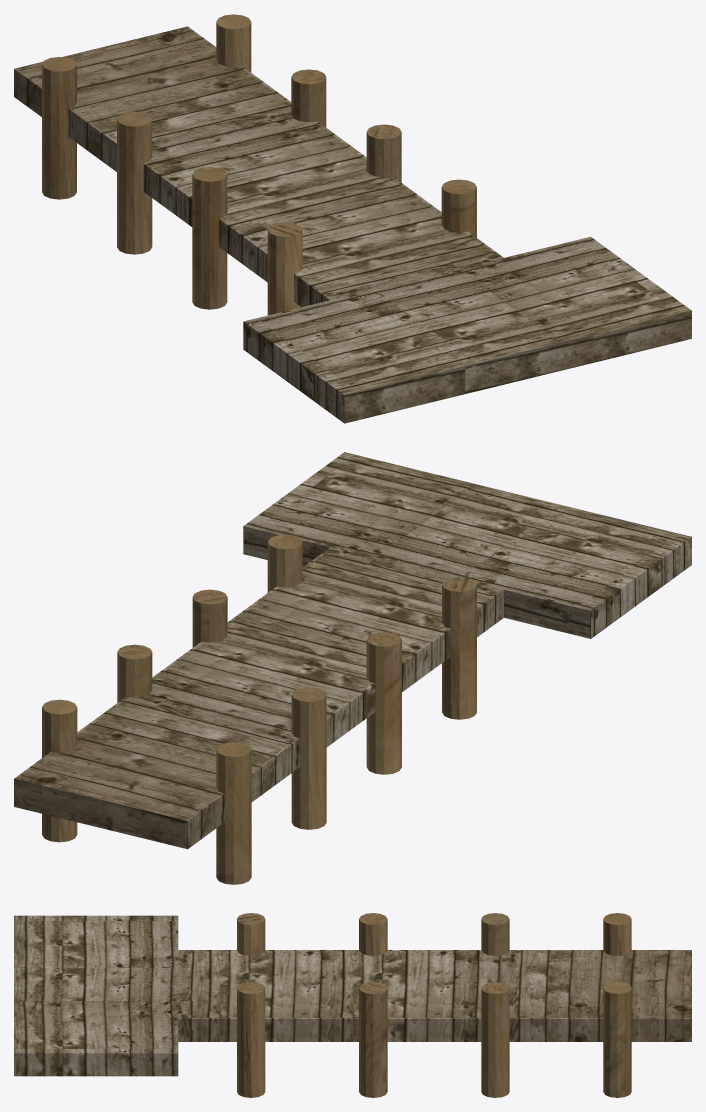
Rendered from model_intro_dock.fbx.
The picture shows the model from 3 angles, top to bottom: view 1: azimuth 30°, elevation 25°; view 2: azimuth 150°, elevation 25°; view 3: azimuth 270°, elevation 25°; orthographic projection. The views are drawn at different scales.
Parts seen in each view (by area): view 1: Cylinder_007; view 2: Cylinder_007; view 3: Cylinder_007.
Part boxes in pixels (x1,y1,x2,y2): Cylinder_007: (14, 14, 691, 423); Cylinder_007: (14, 452, 691, 884); Cylinder_007: (14, 913, 691, 1097).
Size of the model in its own units: 8 by 2.81 by 16.65.
